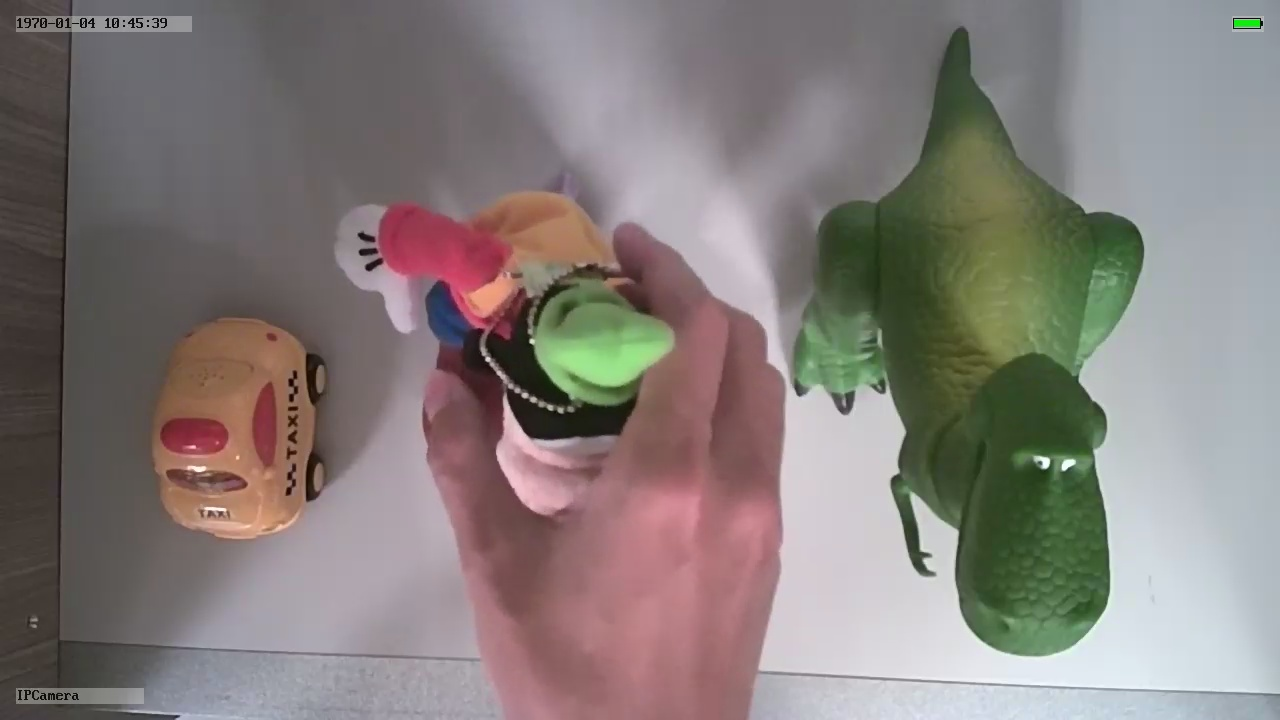car: (146, 312, 330, 544)
rex: (796, 133, 1143, 656)
